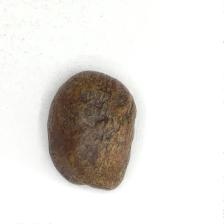NG: (75, 75, 133, 169)
